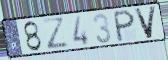3: (93, 13, 112, 45)
4: (72, 15, 90, 46)
8: (23, 20, 43, 52)
P: (114, 8, 136, 43)
V: (132, 5, 158, 40)
Z: (41, 16, 71, 51)
